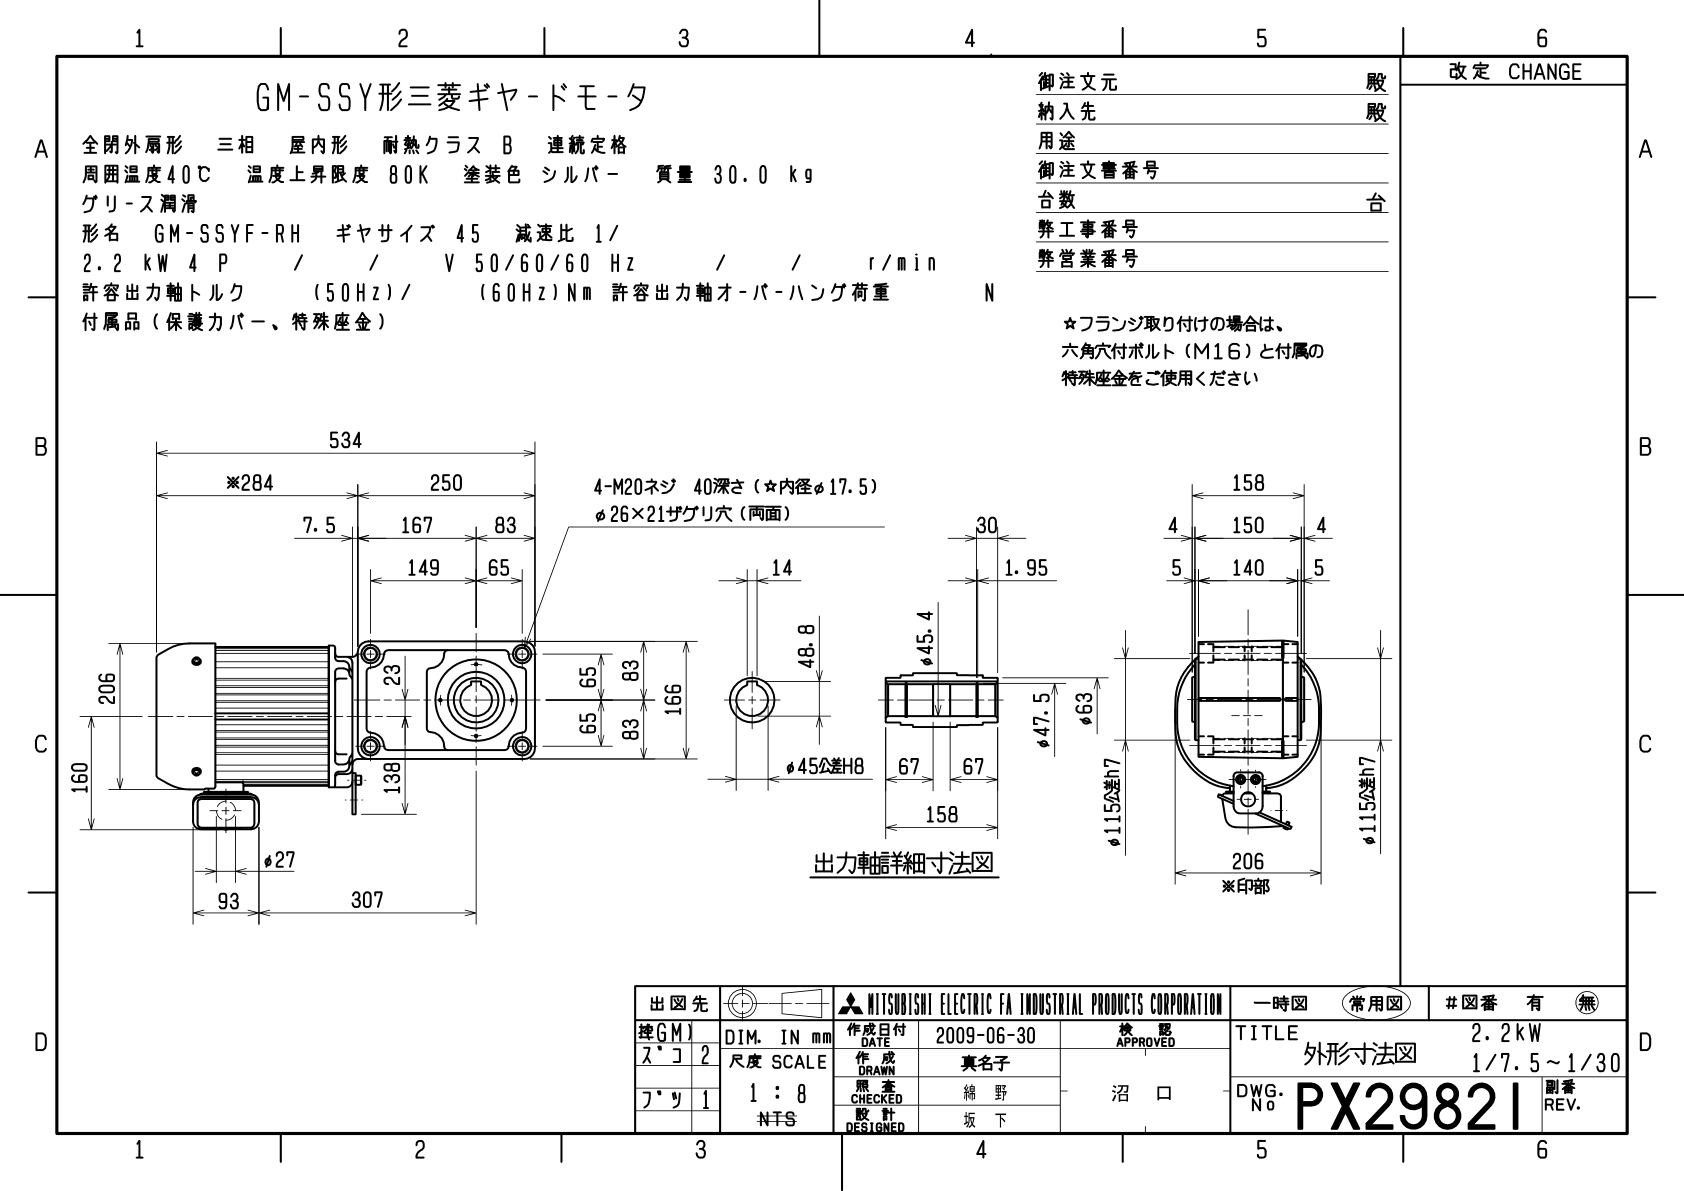GM_SSY_屋内_三相: (67, 392, 1393, 959)
